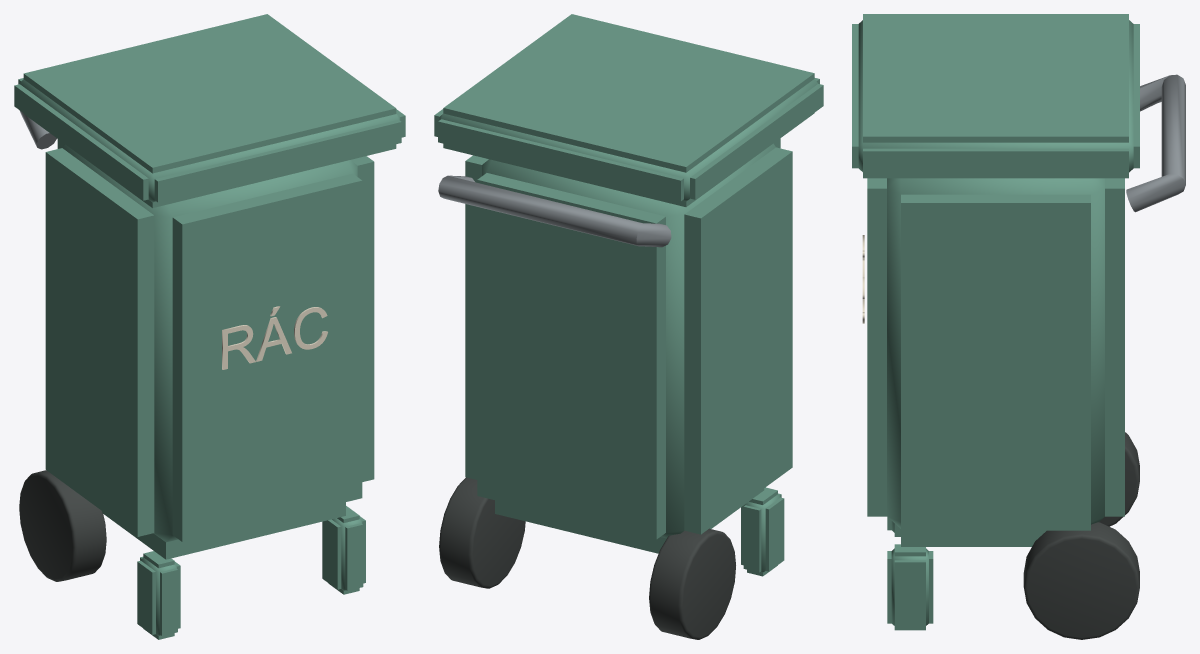
Rendered from TrashBinWheelie.glb.
3 views of the same model, side by side, from view 1: azimuth 30°, elevation 25°; view 2: azimuth 150°, elevation 25°; view 3: azimuth 270°, elevation 25° (orthographic). The views are drawn at different scales.
Parts seen in each view (by area): view 1: ST_TrashBinWheelie_ST_green.001, ST_TrashBinWheelie_ST_black.001, ST_RÁC.002, ST_Bin_Push_Handle.001; view 2: ST_TrashBinWheelie_ST_green.001, ST_TrashBinWheelie_ST_black.001, ST_Bin_Push_Handle.001; view 3: ST_TrashBinWheelie_ST_green.001, ST_TrashBinWheelie_ST_black.001, ST_Bin_Push_Handle.001.
Boxes of the visible parts, x1,y1,x2,y2 form: ST_TrashBinWheelie_ST_green.001: (14,14,405,639); ST_TrashBinWheelie_ST_black.001: (19,470,106,581); ST_RÁC.002: (222,306,327,369); ST_Bin_Push_Handle.001: (19,110,56,149); ST_TrashBinWheelie_ST_green.001: (434,14,823,576); ST_TrashBinWheelie_ST_black.001: (439,477,735,639); ST_Bin_Push_Handle.001: (438,175,671,247); ST_TrashBinWheelie_ST_green.001: (852,14,1139,630); ST_TrashBinWheelie_ST_black.001: (1023,432,1139,639); ST_Bin_Push_Handle.001: (1126,74,1185,212).
Bounding box in the file's own units: 0.51 × 0.9075 × 0.5447.
